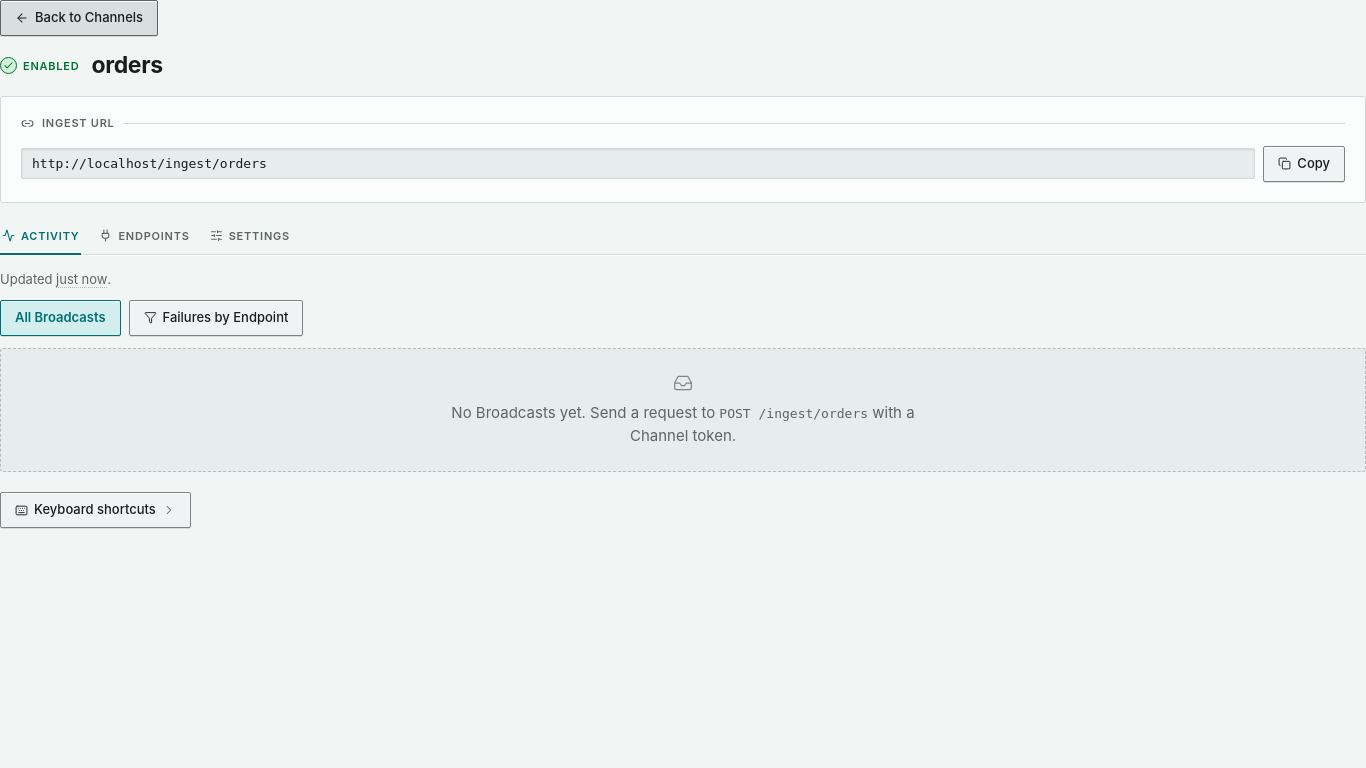
Ingest URL visibility (issue #47) › slug rename warning in Settings › shows no warning while the slug is untouched
The width and height of the screenshot is (1366, 768).
What coordinates should you click on to do the following:
click the link "Settings"
I would click on:
 (250, 236)
Its box is [210,229,290,243].
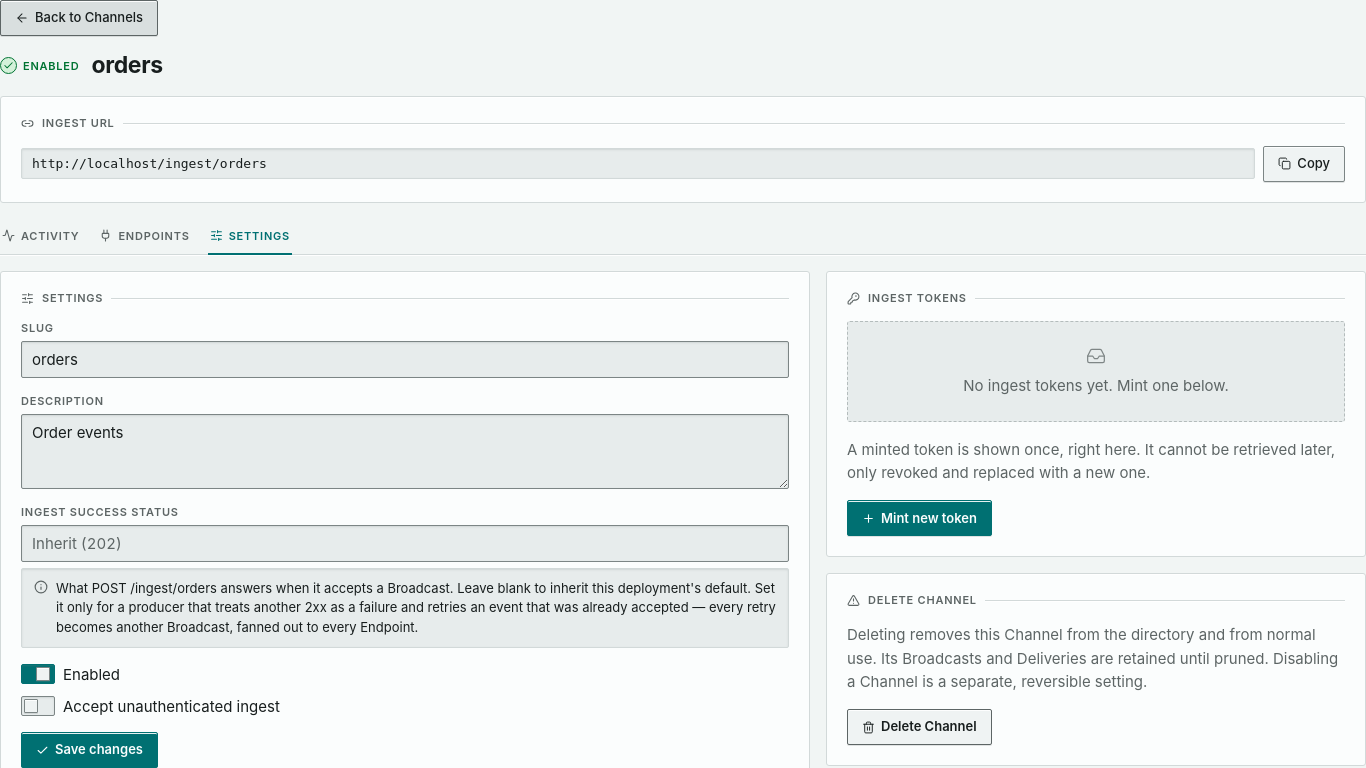
Now the field showing "orders" is shown, box [21,341,789,378]
